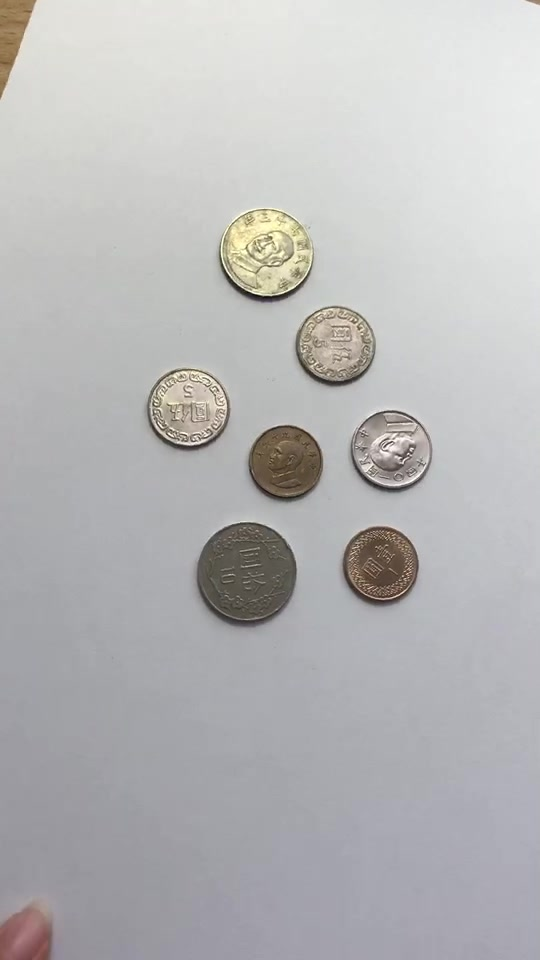1 dallar: (335, 516, 429, 612), (245, 416, 325, 511)
10 dallar: (206, 196, 323, 305), (186, 518, 303, 627)
5 dallar: (138, 363, 238, 453), (283, 301, 383, 391), (339, 405, 439, 495)
